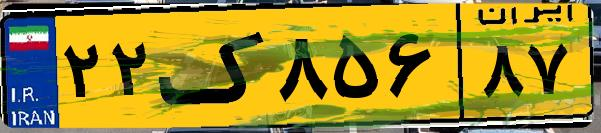2: (57, 26, 110, 100), (110, 28, 158, 98)
5: (330, 28, 385, 110)
6: (385, 28, 445, 110)
7: (525, 38, 570, 115)
8: (270, 28, 330, 110), (475, 38, 525, 113)
ک: (158, 12, 270, 120)
